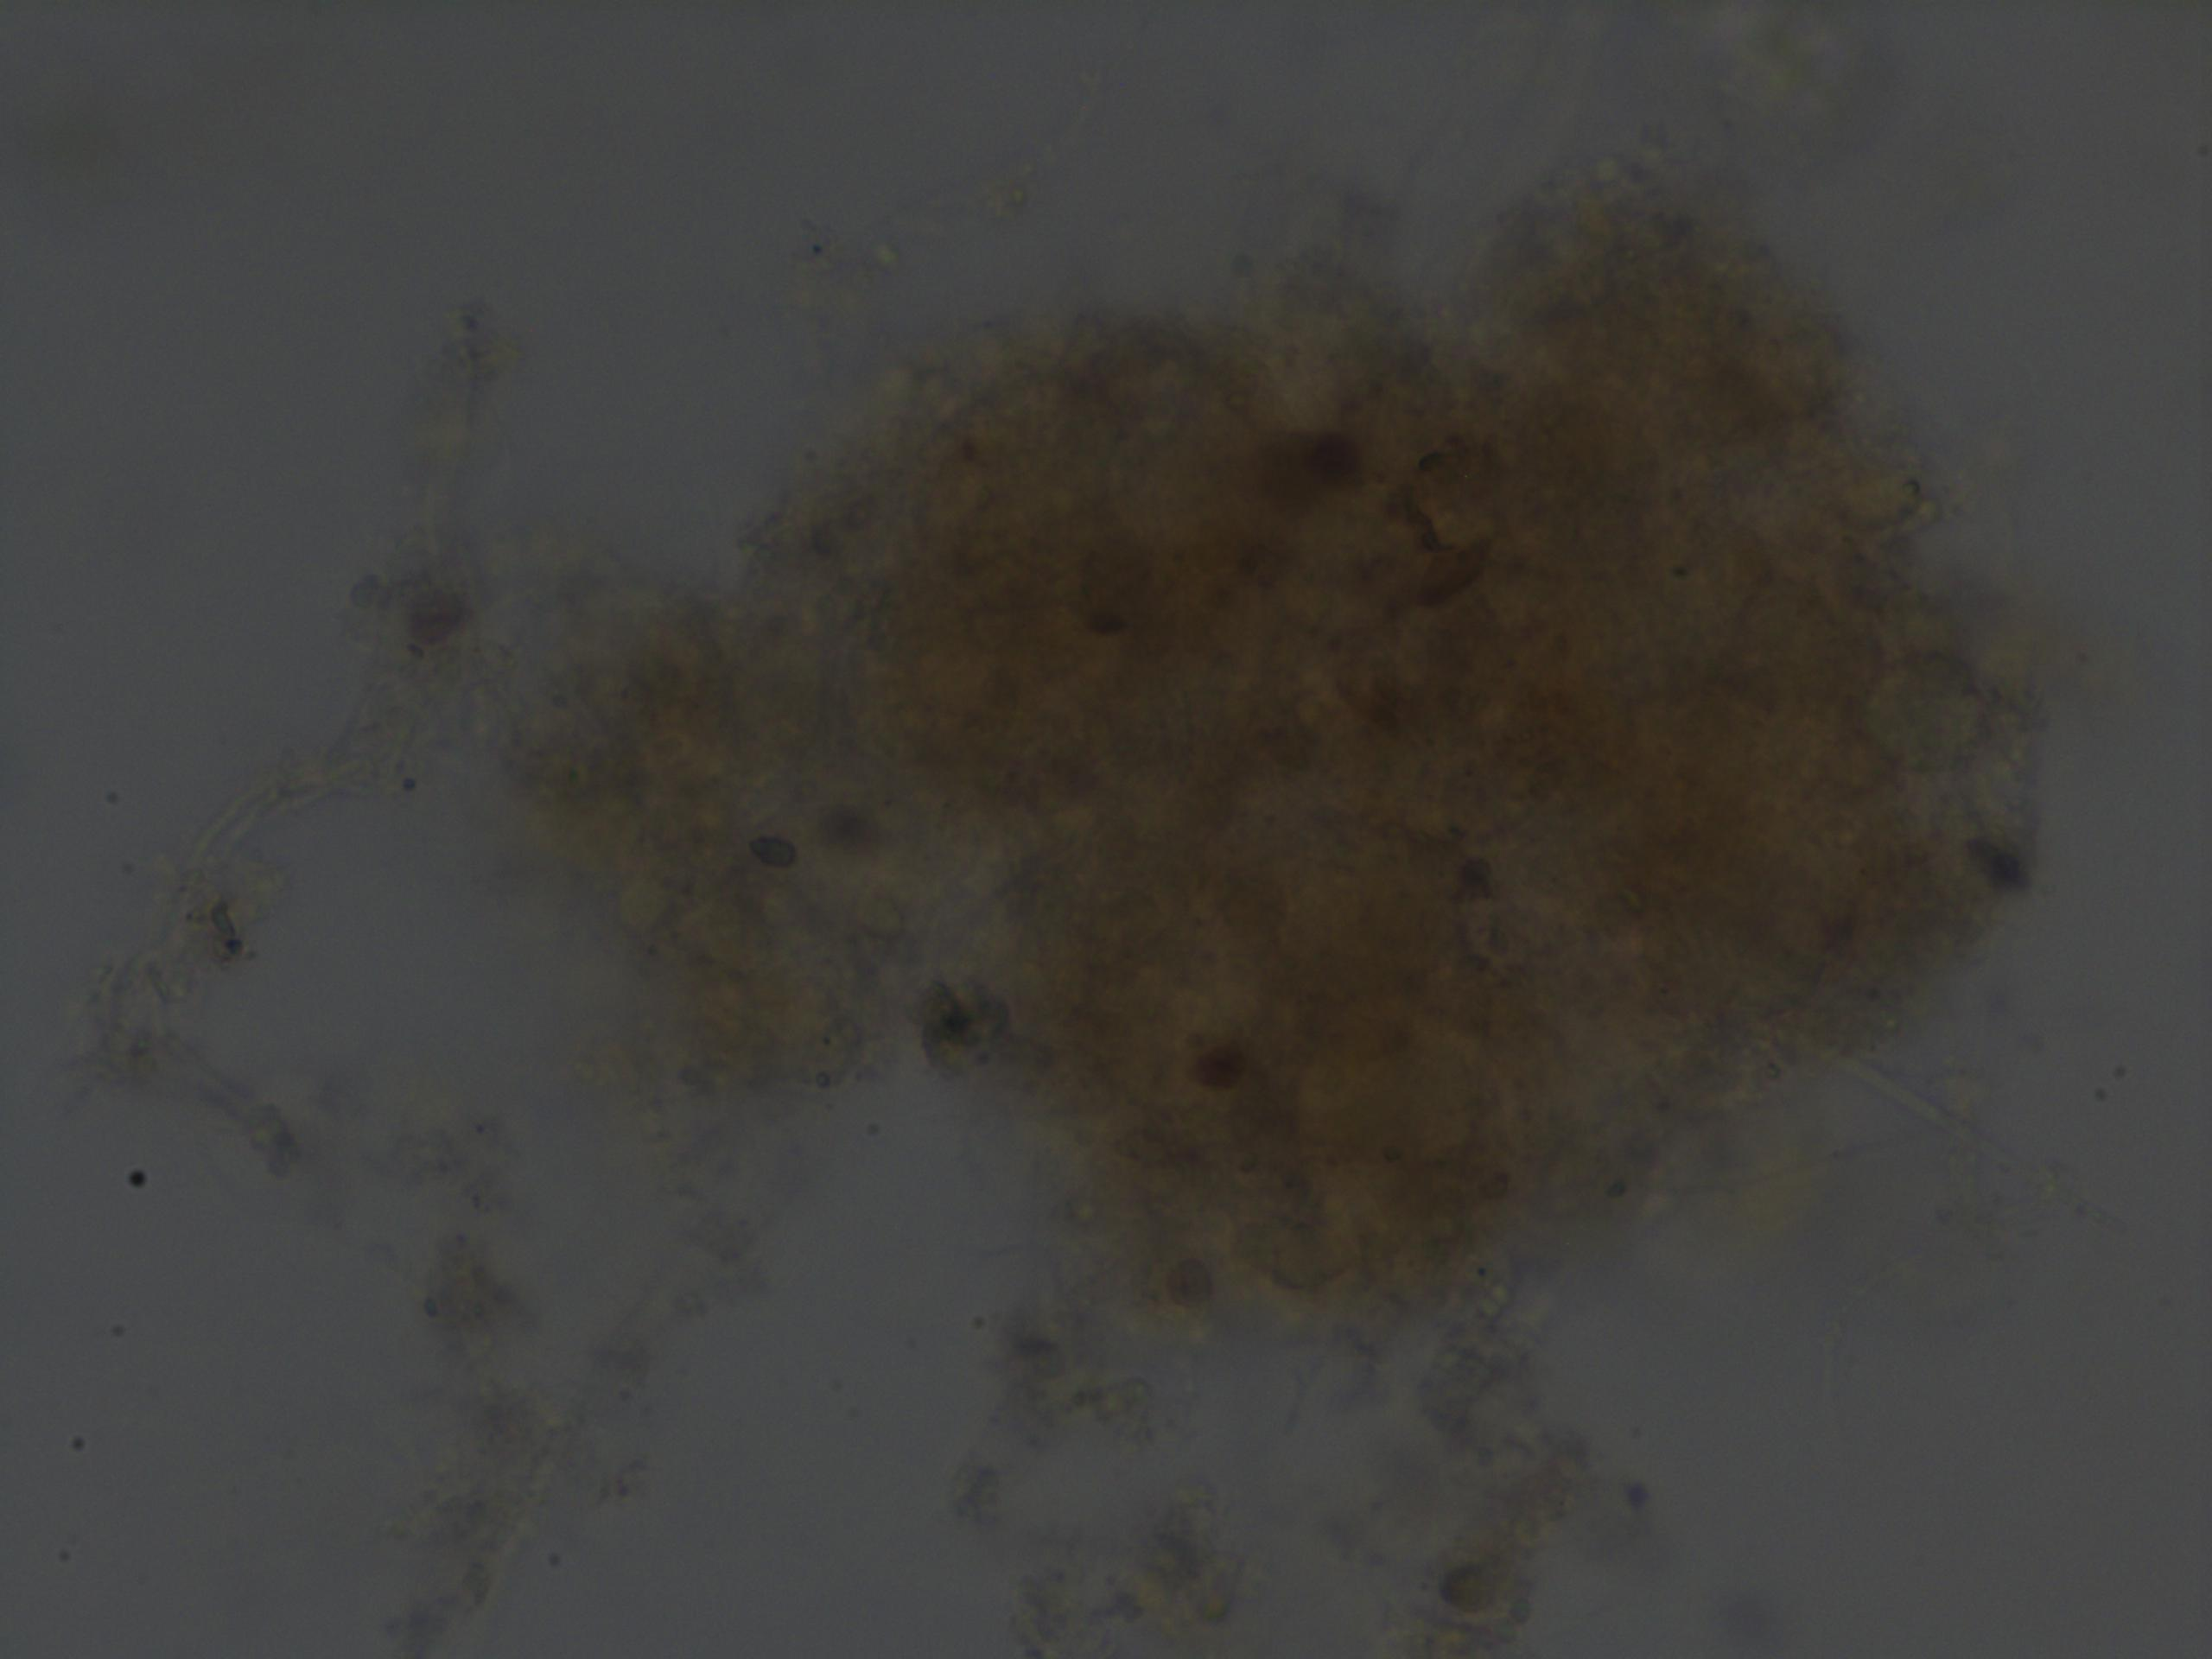spherical_floc: (510, 157, 2055, 1373)
